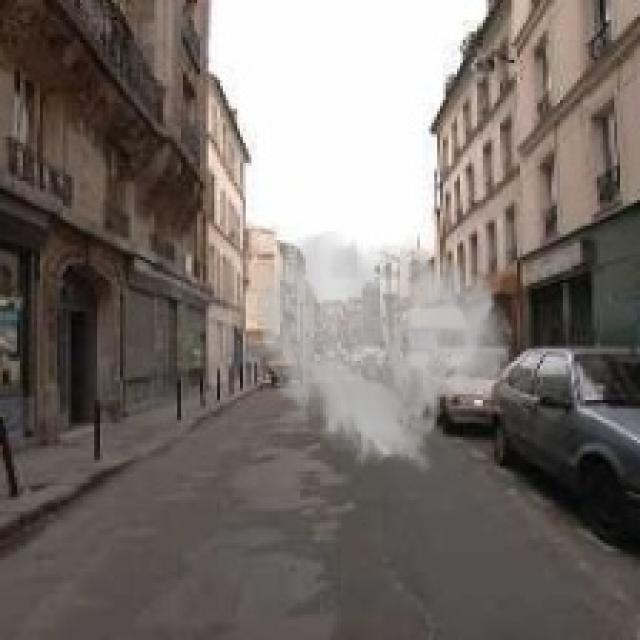smoke: (249, 229, 514, 474)
